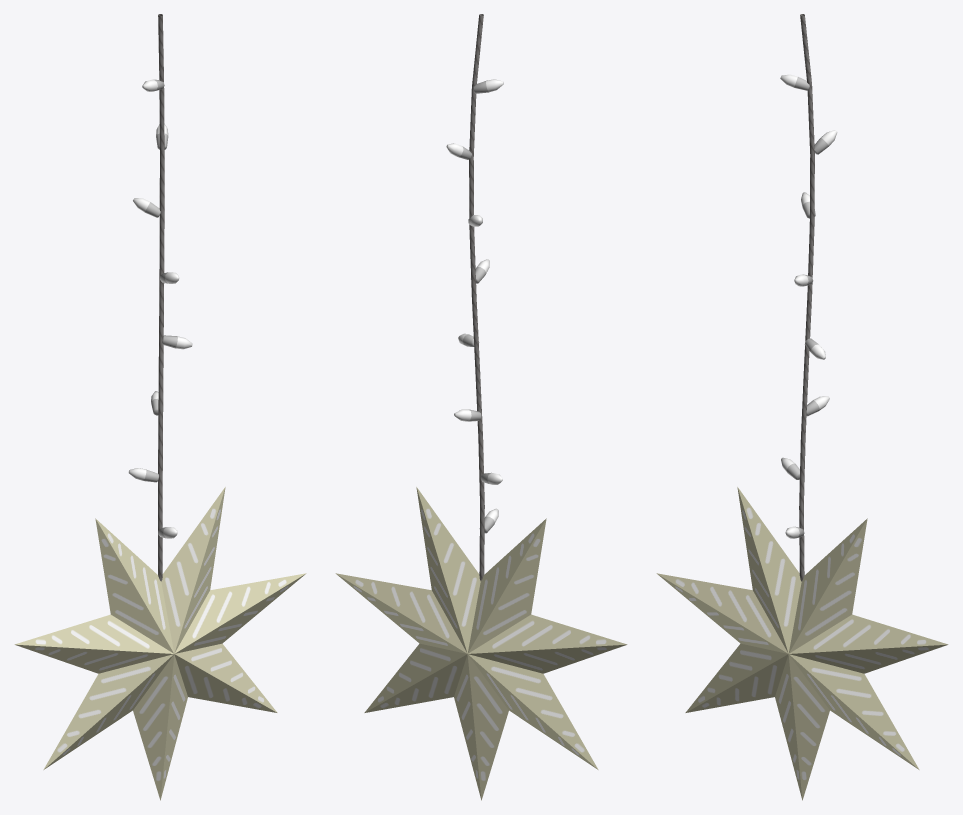
Rendered from PartyHangingStar01B_3.FBX.
3 views of the same model, side by side, from view 1: azimuth 30°, elevation 25°; view 2: azimuth 150°, elevation 25°; view 3: azimuth 330°, elevation 25° (orthographic).
Parts seen in each view (by area): view 1: PartyHangingStar01B_3; view 2: PartyHangingStar01B_3; view 3: PartyHangingStar01B_3.
Part boxes in pixels (x1=…): PartyHangingStar01B_3: x1=14, y1=14, x2=306, y2=800; PartyHangingStar01B_3: x1=335, y1=14, x2=627, y2=800; PartyHangingStar01B_3: x1=656, y1=14, x2=948, y2=800.
Size of what is drawn, in the model's own units: 0.3508 by 0.9 by 0.0677.
